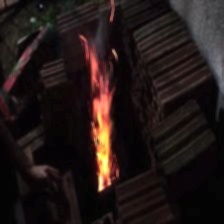fire: (76, 27, 139, 205)
